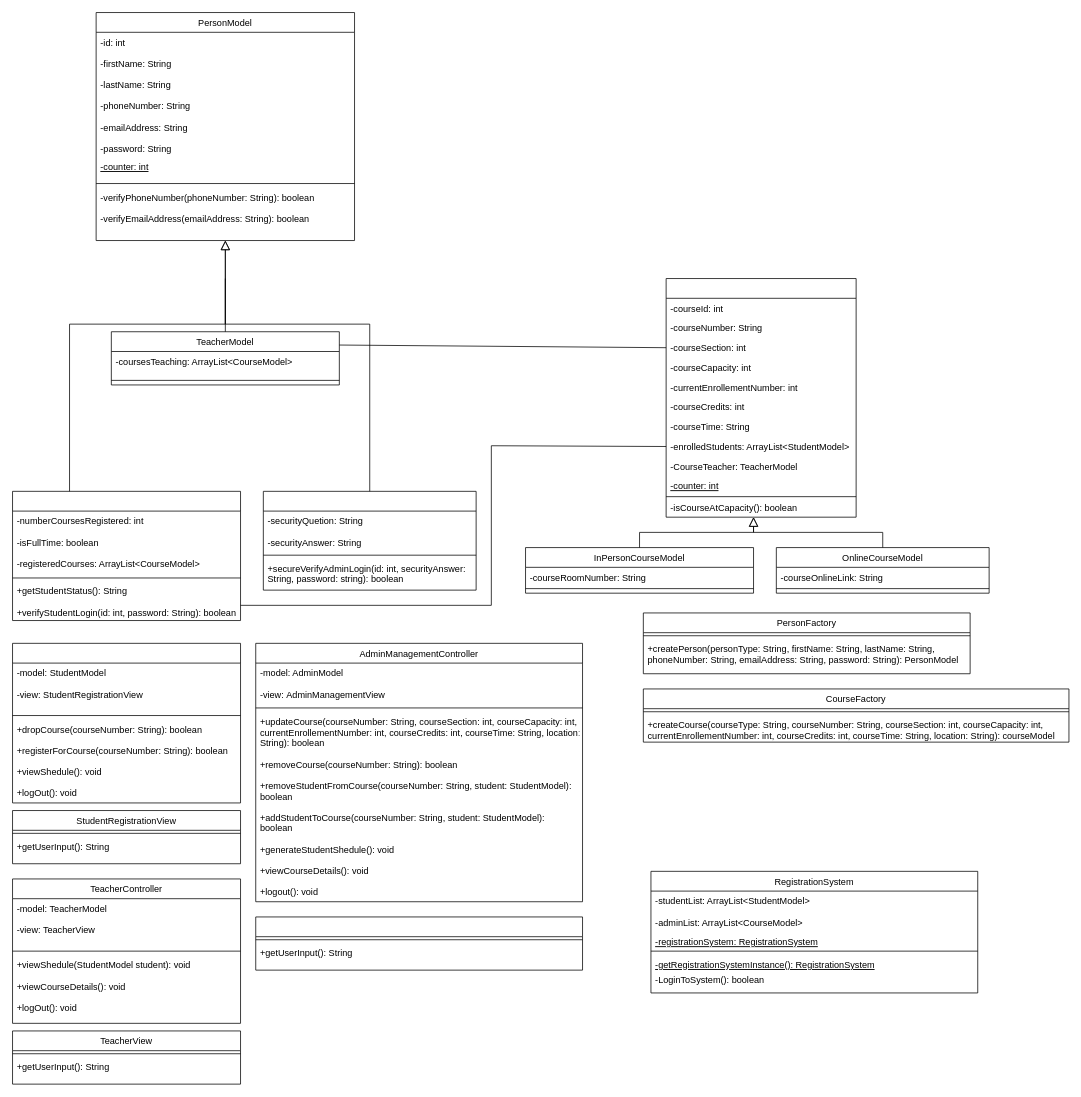
Image size: 1081x1097. Some labels were removed from this diagram. Each missing label, with the box of its shape:
AdminManagementView: (255, 916, 583, 970)
AdminModel: (263, 491, 476, 590)
CourseModel: (665, 278, 856, 517)
StudentModel: (12, 491, 241, 621)
StudentRegistrationController: (12, 643, 241, 803)
